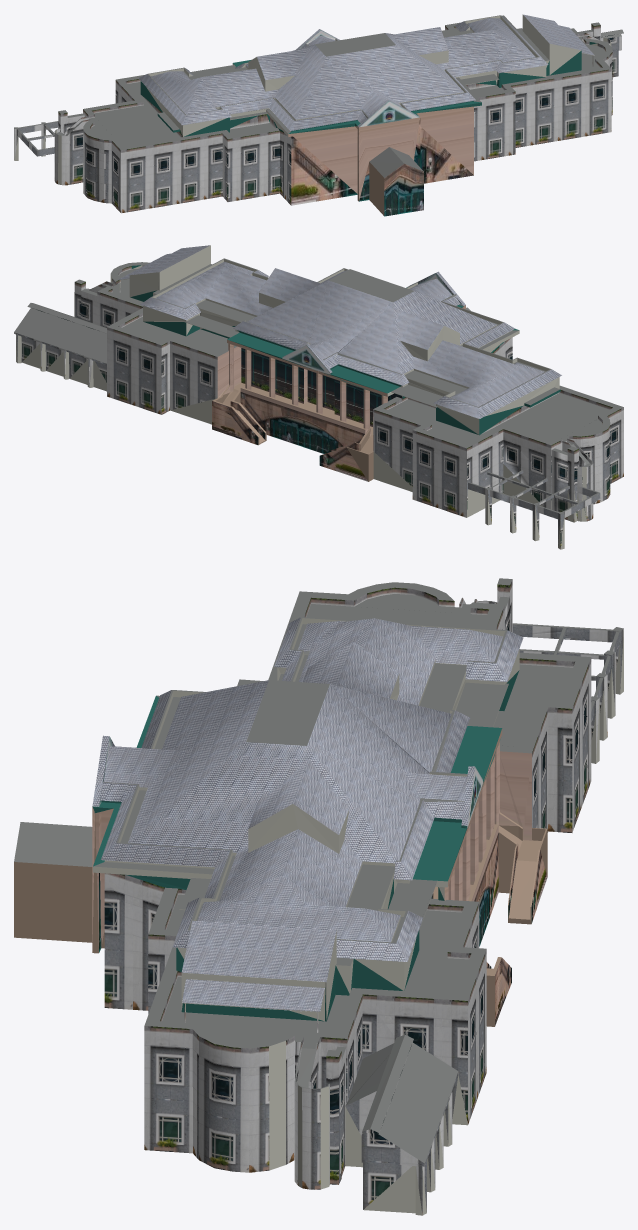
The picture shows the model from 3 angles, top to bottom: view 1: azimuth 30°, elevation 25°; view 2: azimuth 150°, elevation 25°; view 3: azimuth 270°, elevation 25°; orthographic projection. The views are drawn at different scales.
Parts seen in each view (by area): view 1: Recreation Club porch and masonry, Recreation Club two-storey window bays, Recreation Club slate roof; view 2: Recreation Club porch and masonry, Recreation Club two-storey window bays, Recreation Club slate roof; view 3: Recreation Club porch and masonry, Recreation Club slate roof, Recreation Club two-storey window bays.
Boxes of the visible parts, bbox=[...] form: Recreation Club porch and masonry: bbox=[14, 14, 623, 216]; Recreation Club two-storey window bays: bbox=[14, 24, 623, 213]; Recreation Club slate roof: bbox=[138, 14, 594, 130]; Recreation Club porch and masonry: bbox=[14, 245, 623, 549]; Recreation Club two-storey window bays: bbox=[14, 265, 623, 548]; Recreation Club slate roof: bbox=[118, 245, 561, 418]; Recreation Club porch and masonry: bbox=[14, 578, 623, 1215]; Recreation Club slate roof: bbox=[92, 617, 523, 1011]; Recreation Club two-storey window bays: bbox=[104, 580, 623, 1215].
Bounding box in the file's own units: 93.27 × 18.45 × 45.24.
3 materials, 3 textured.
